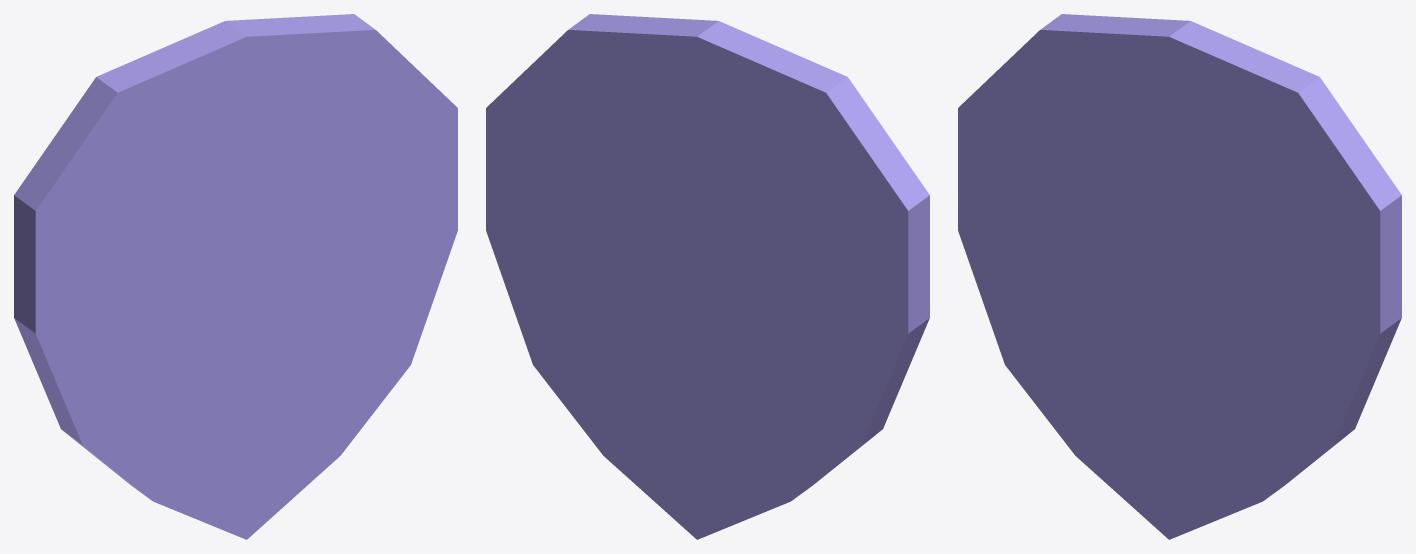
Rendered from badge_scare_door.glb.
3 renders of one model, left to right at view 1: azimuth 30°, elevation 25°; view 2: azimuth 150°, elevation 25°; view 3: azimuth 330°, elevation 25°, orthographic.
Visible parts, largest first — view 1: badge; view 2: badge; view 3: badge.
Boxes of the visible parts, box(x1,y1,x2,y2) form: badge: box(14, 14, 457, 539); badge: box(486, 14, 929, 539); badge: box(958, 14, 1401, 539).
Bounding box in the file's own units: 1.8 × 2.05 × 0.16.
